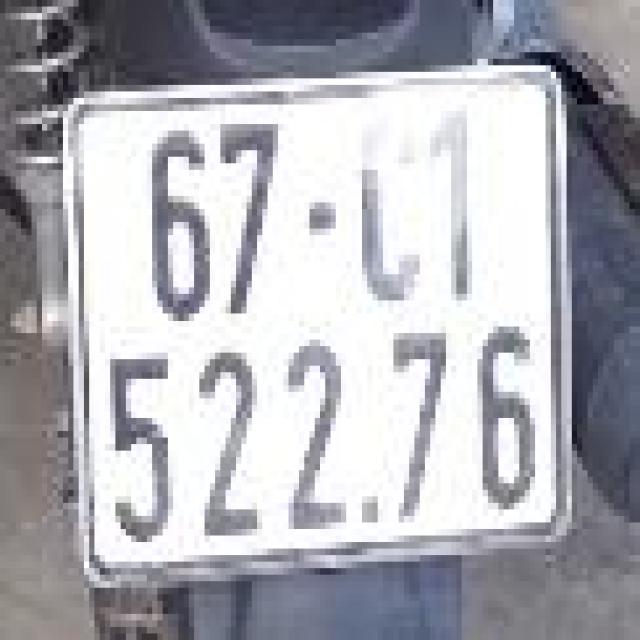1: (425, 108, 483, 297)
2: (278, 333, 357, 536), (191, 333, 265, 542)
5: (92, 339, 176, 562)
6: (464, 320, 543, 522), (144, 121, 218, 323)
7: (380, 316, 454, 526), (218, 111, 286, 320)
C: (346, 108, 420, 304)
